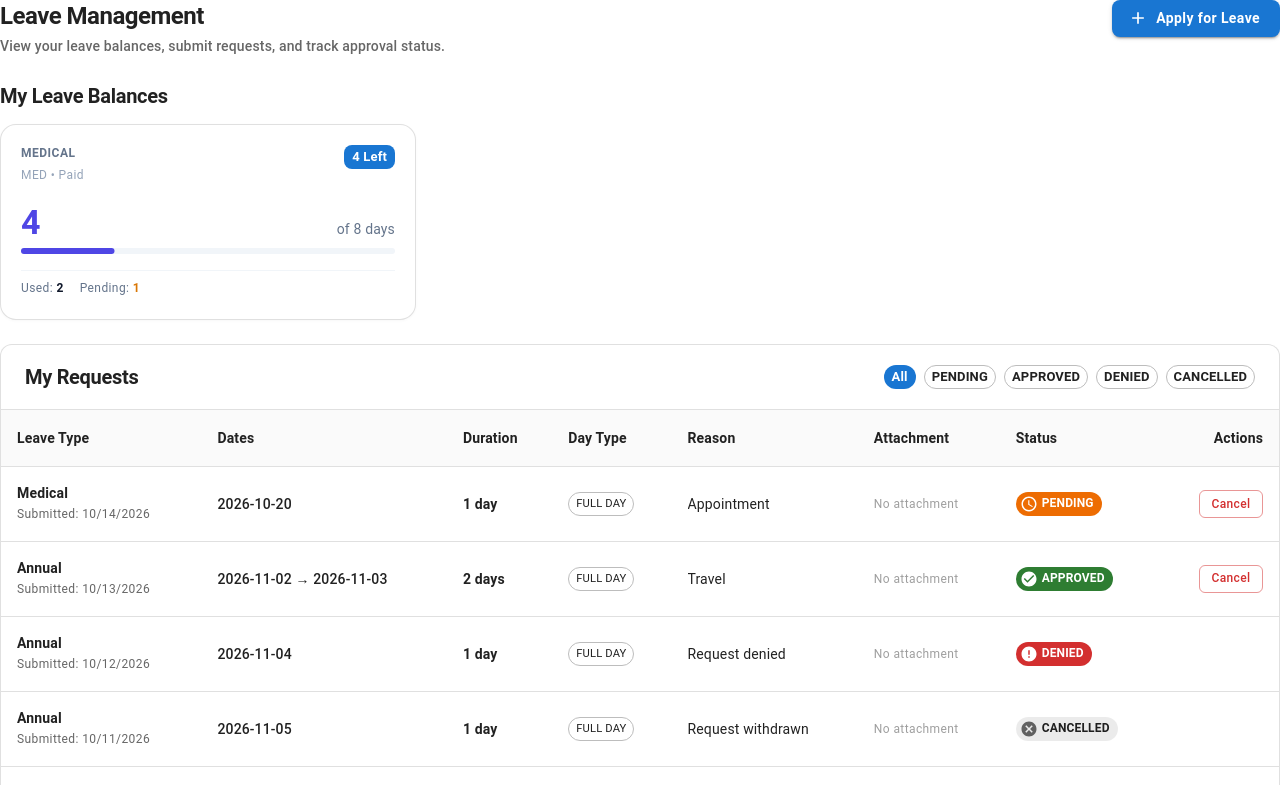
shows the server policy message when a leave request is rejected
Expected: the text "4 Left" is shown, [352,149,387,164]
Click the button "Apply for Leave": x=1196, y=18 [1112,0,1279,36]
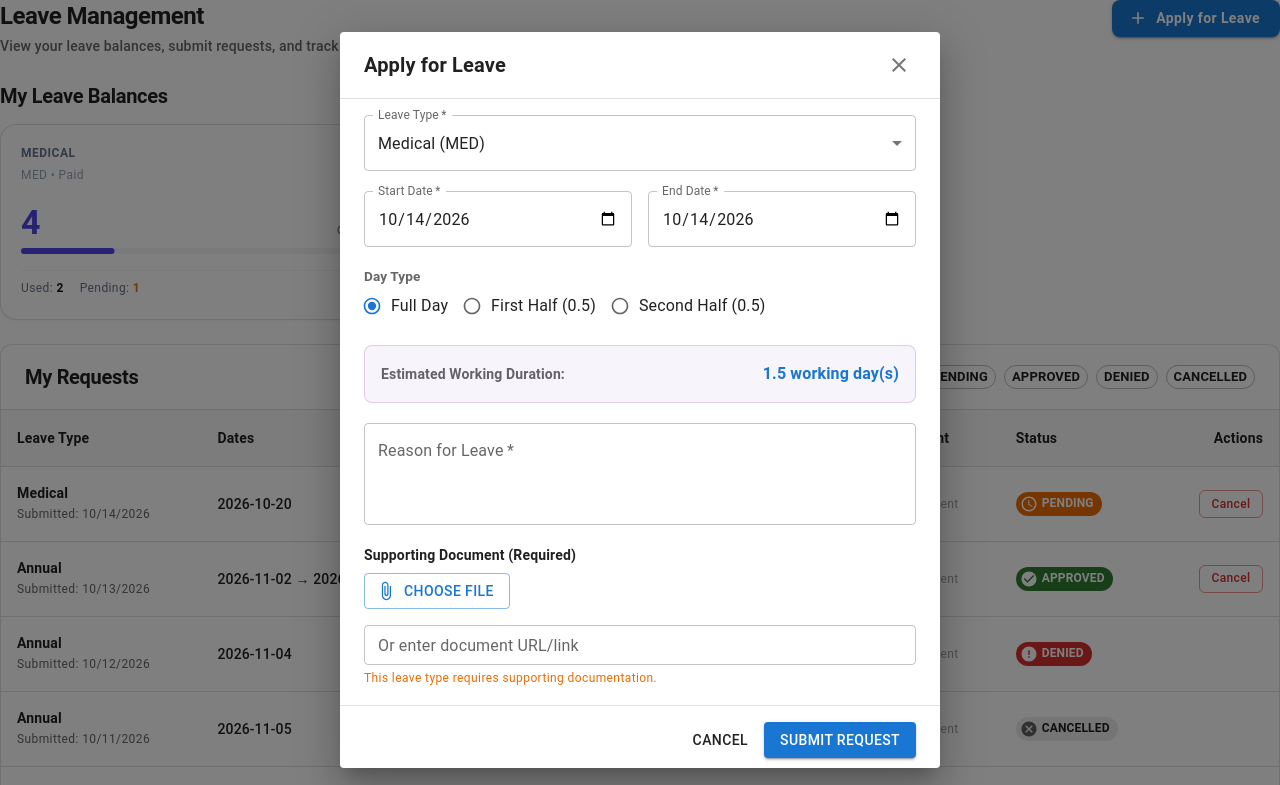
In the text box labelled "Reason for Leave": x=640, y=474 [378,439,902,508], type "Medical visit"
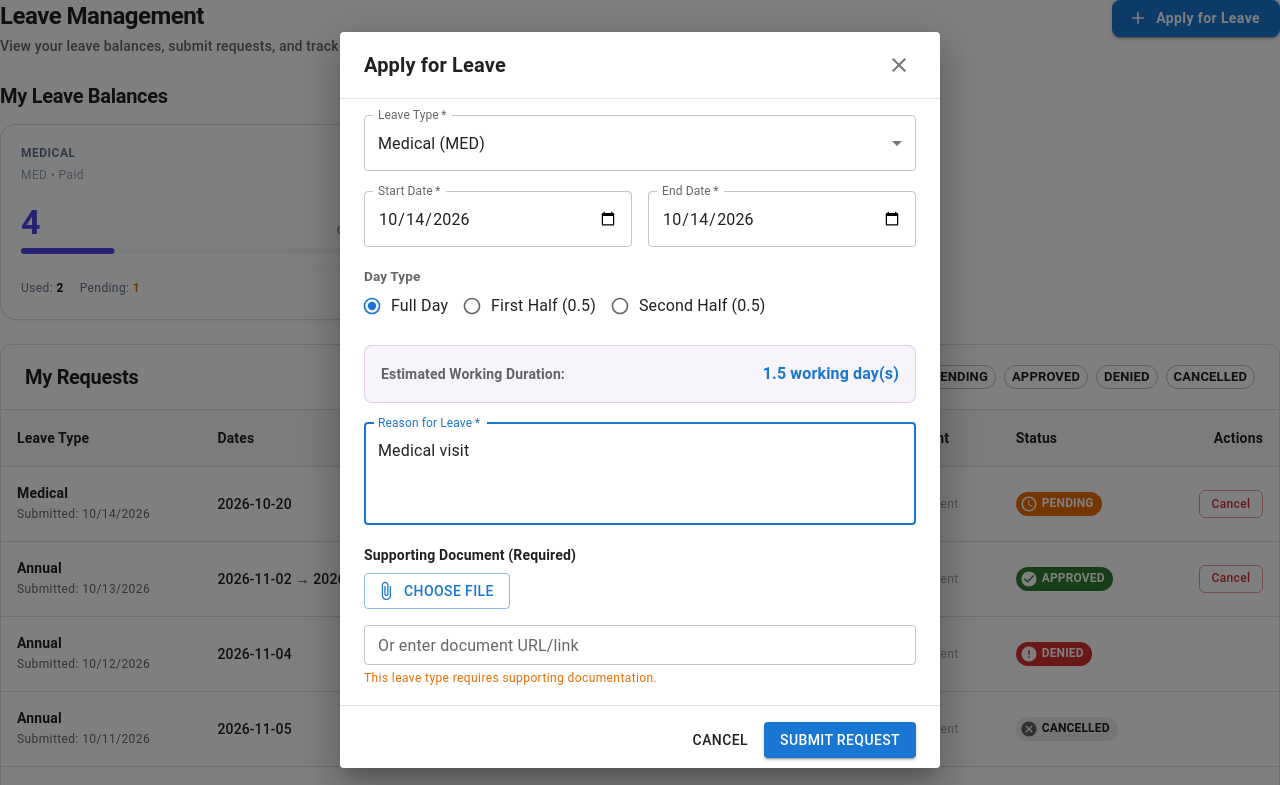
In the field labelled "Or enter document URL/link": x=640, y=645 [364,625,916,665], type "https://files.example.test/note.pdf"
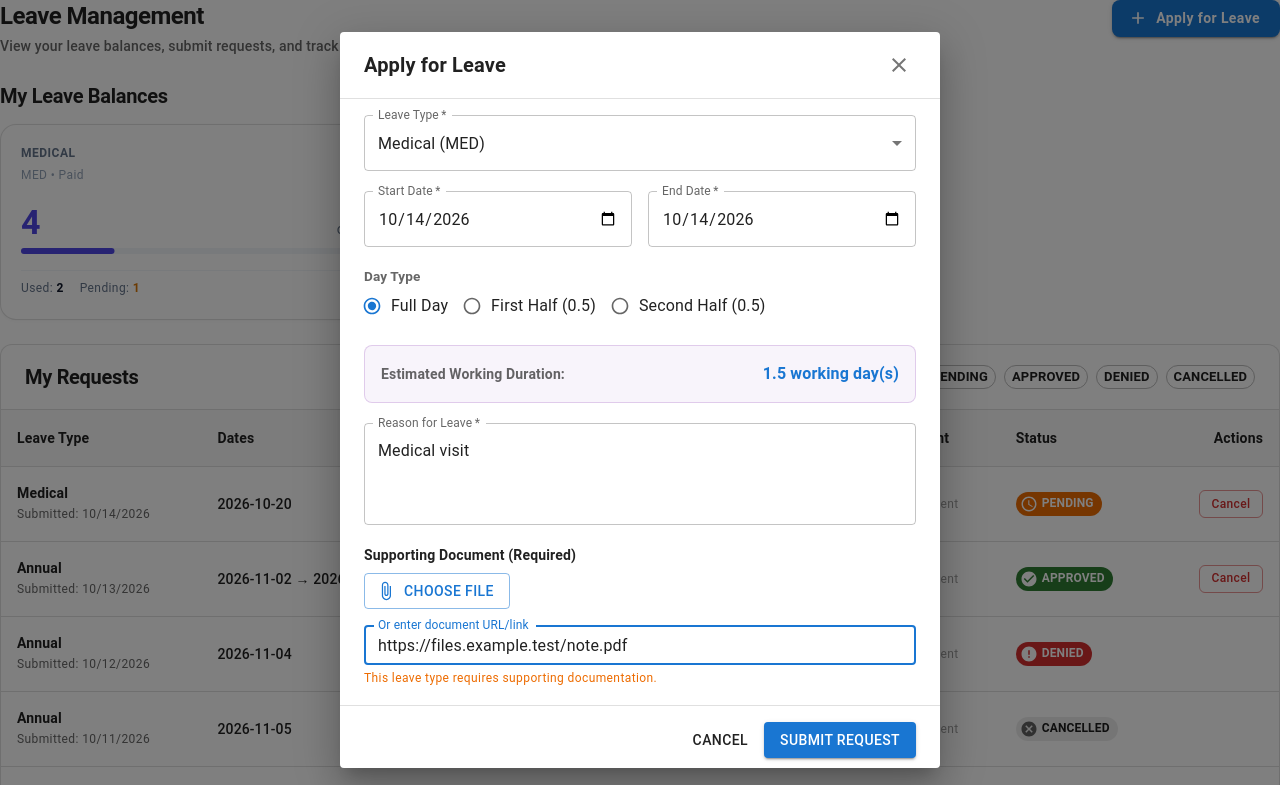
Click the button "Submit Request": x=840, y=740 [764,722,916,758]
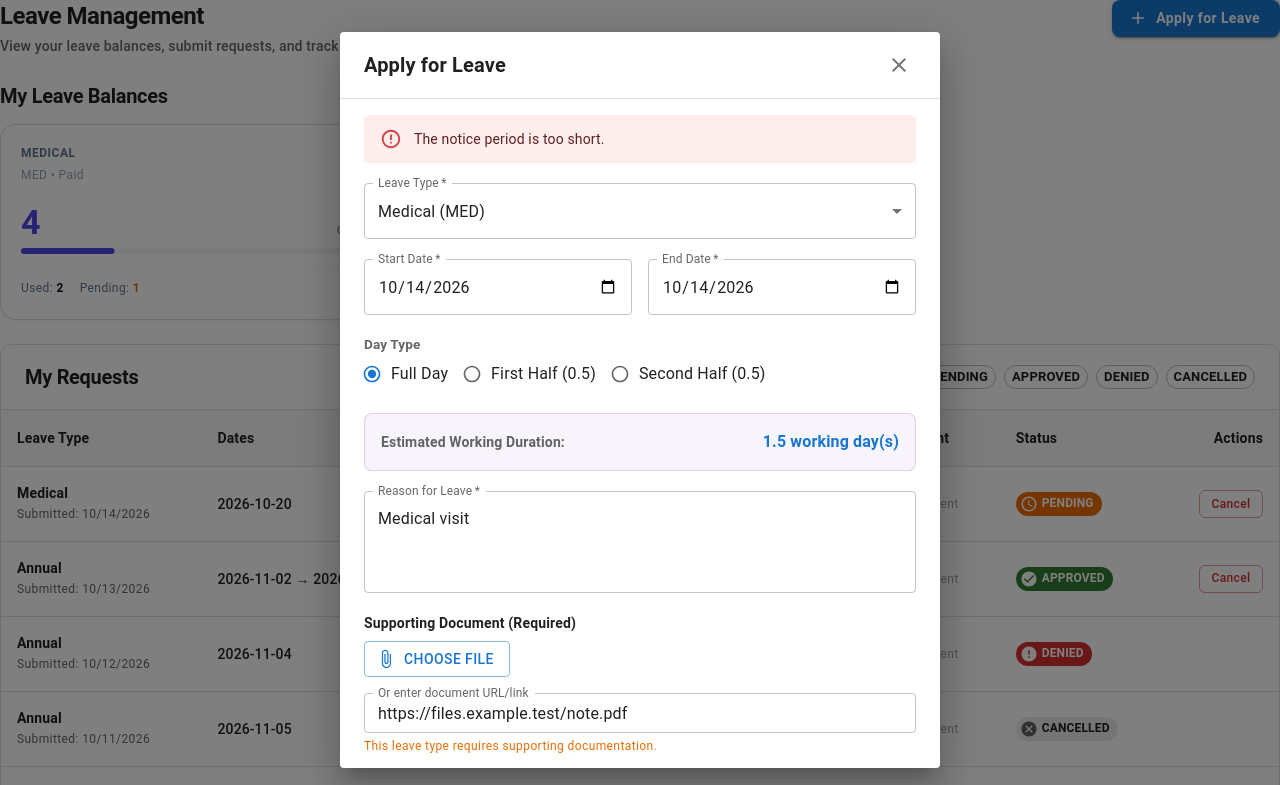
Now the dialog is shown, box [340,32,940,768]
Now the text "The notice period is too short." is shown, box [414,131,605,147]
